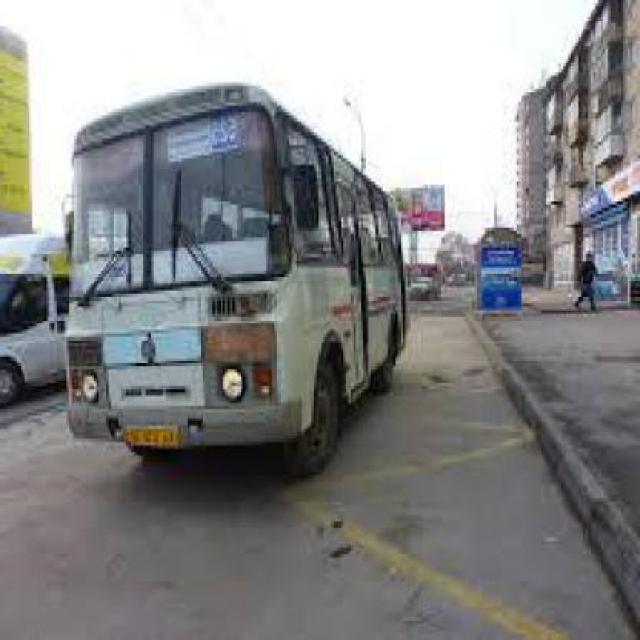bus: (64, 82, 410, 476)
